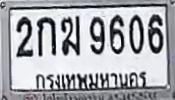0: (128, 14, 143, 53)
2: (15, 16, 32, 57)
6: (109, 15, 124, 54), (148, 14, 162, 53)
9: (89, 16, 104, 54)
A01: (36, 16, 56, 56)
A06: (60, 15, 80, 55)
BKK: (31, 69, 150, 91)
